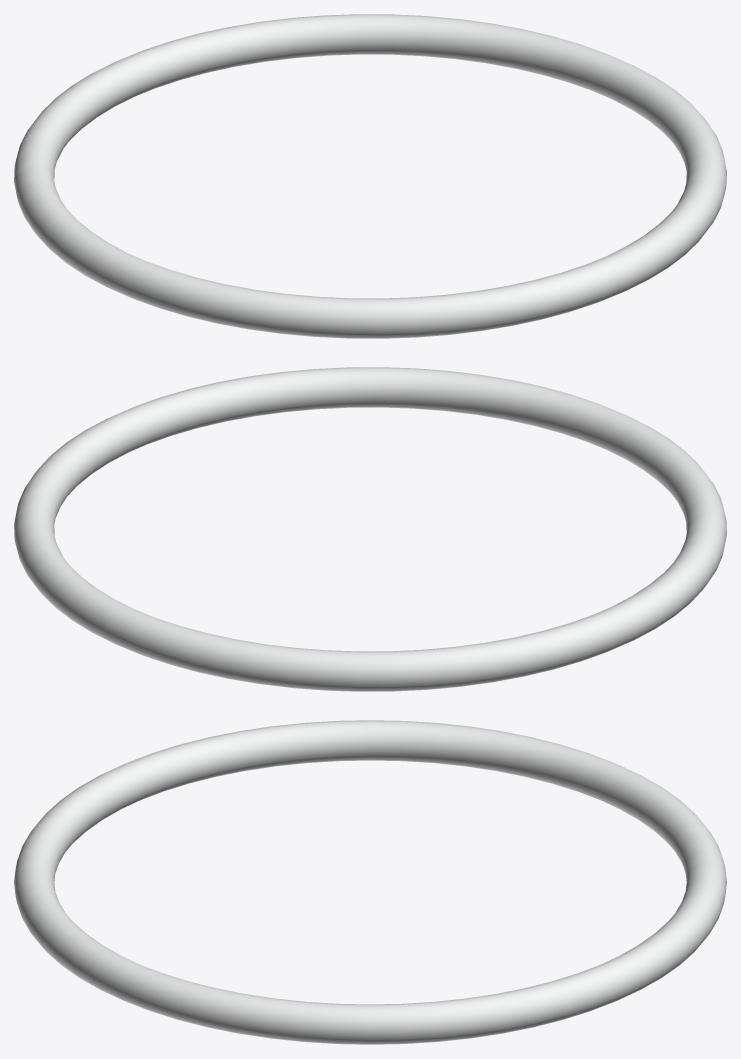
The model's file is SkytreeConstructionTowerRing.obj.
3 renders of one model, top to bottom at view 1: azimuth 30°, elevation 25°; view 2: azimuth 150°, elevation 25°; view 3: azimuth 270°, elevation 25°, orthographic.
Parts seen in each view (by area): view 1: Col-14_Torus; view 2: Col-14_Torus; view 3: Col-14_Torus.
Part boxes in pixels (<box>): Col-14_Torus: <box>14,14,726,338</box>; Col-14_Torus: <box>14,367,726,691</box>; Col-14_Torus: <box>14,720,726,1044</box>.
Size of the model in its own units: 5.3 by 0.3 by 5.3.
